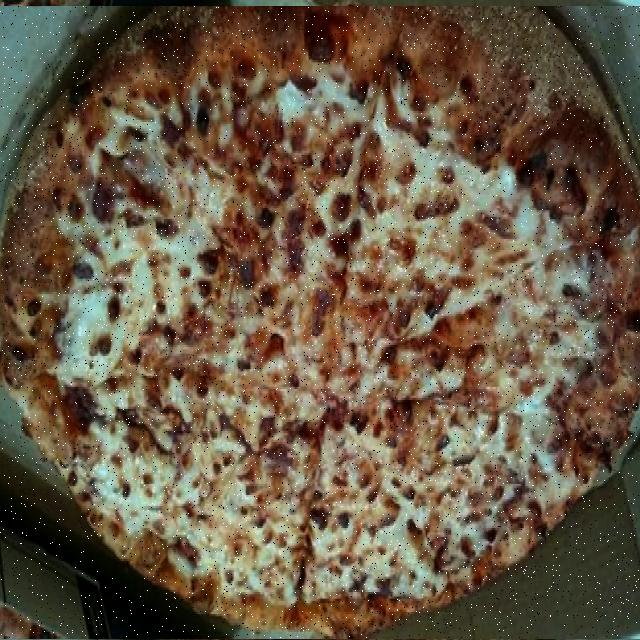Pizza: (0, 7, 640, 638)
